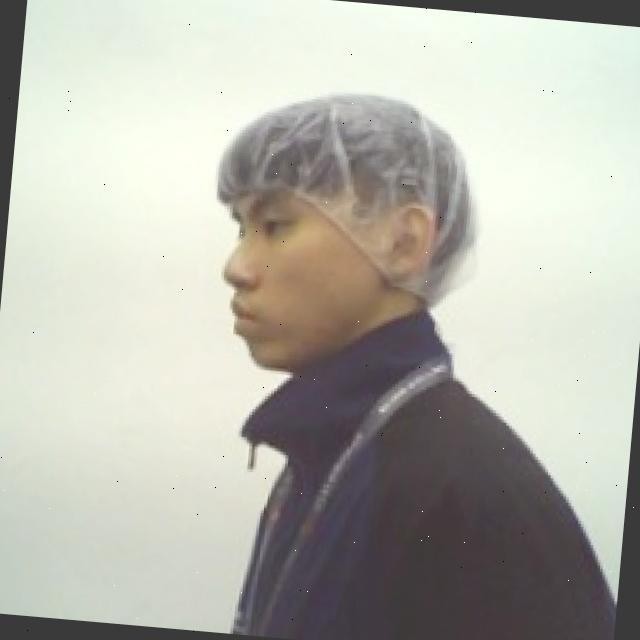gloves: (201, 72, 494, 309)
no_hairnet: (202, 190, 428, 388)
